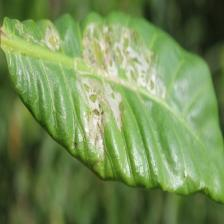leaf miner: (0, 10, 223, 205)
